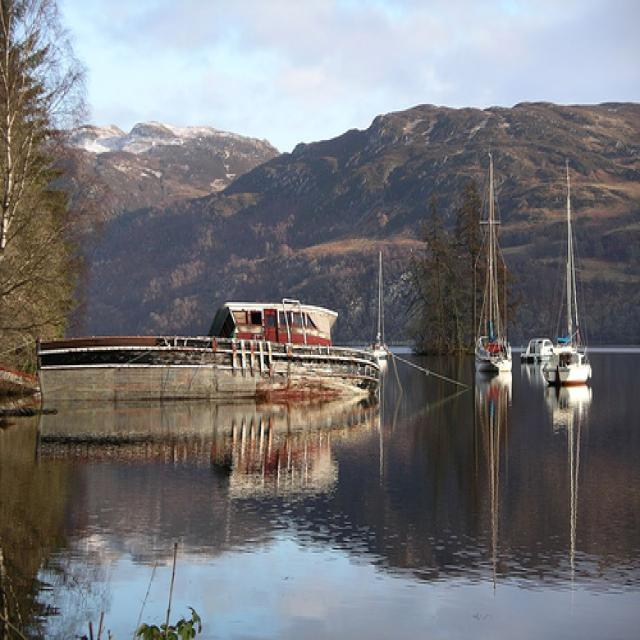boat: (37, 298, 380, 404), (543, 157, 593, 389), (471, 148, 514, 380), (366, 248, 390, 363), (518, 334, 560, 364)
